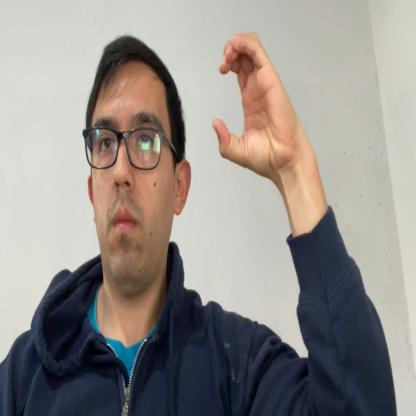C: (211, 29, 297, 174)
